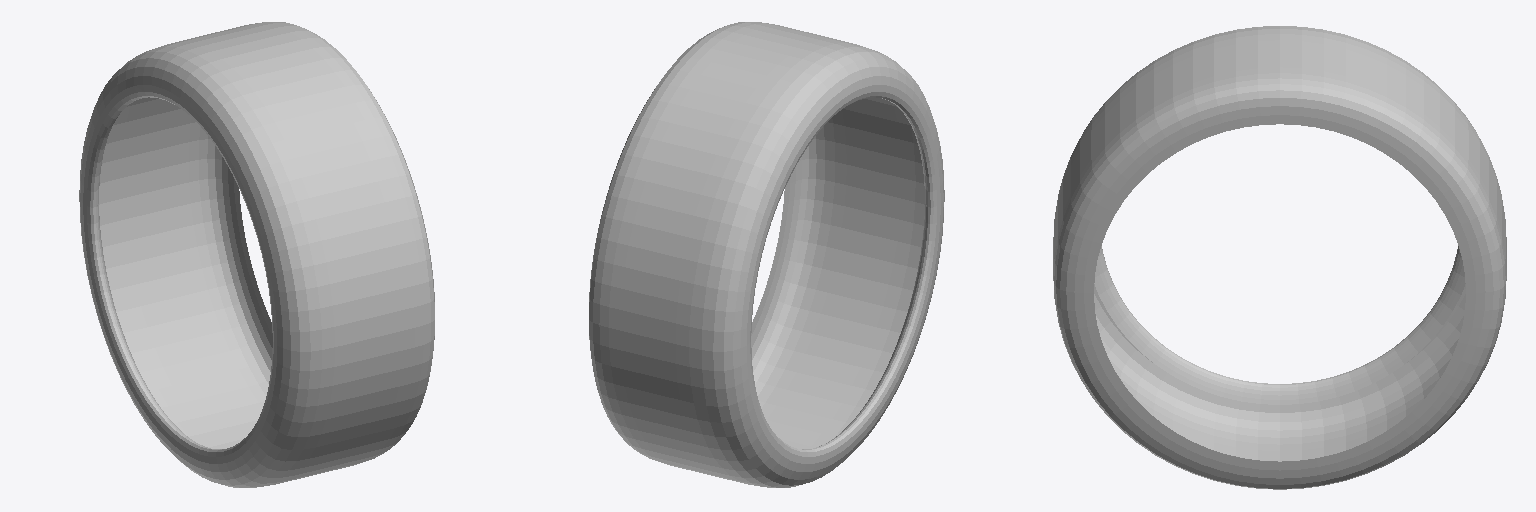
File: frontMetal.obj
3 renders of one model, left to right at view 1: azimuth 30°, elevation 25°; view 2: azimuth 150°, elevation 25°; view 3: azimuth 270°, elevation 25°, orthographic.
Visible parts, largest first — view 1: frontMetal_Plane.005; view 2: frontMetal_Plane.005; view 3: frontMetal_Plane.005.
Part boxes in pixels (x1,y1,x2,y2): frontMetal_Plane.005: (79, 22, 434, 487); frontMetal_Plane.005: (589, 22, 944, 487); frontMetal_Plane.005: (1053, 26, 1506, 489).
Size of the model in its own units: 0.8032 by 2.08 by 2.08.